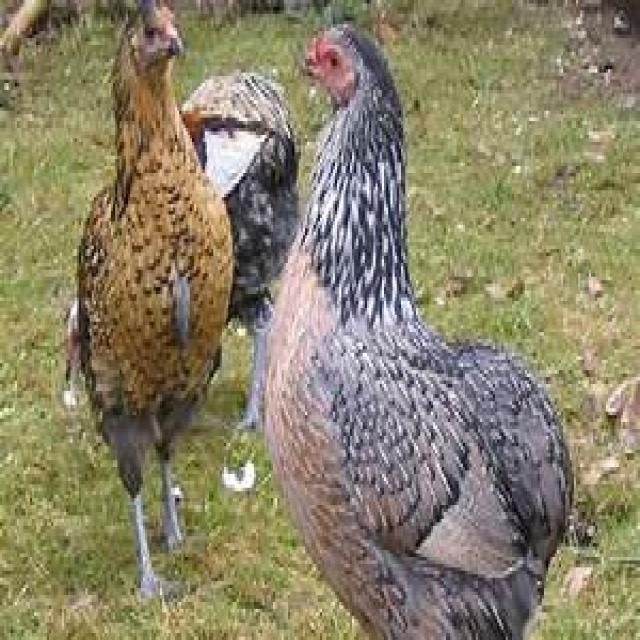animal: (260, 18, 589, 636), (62, 0, 235, 602)
